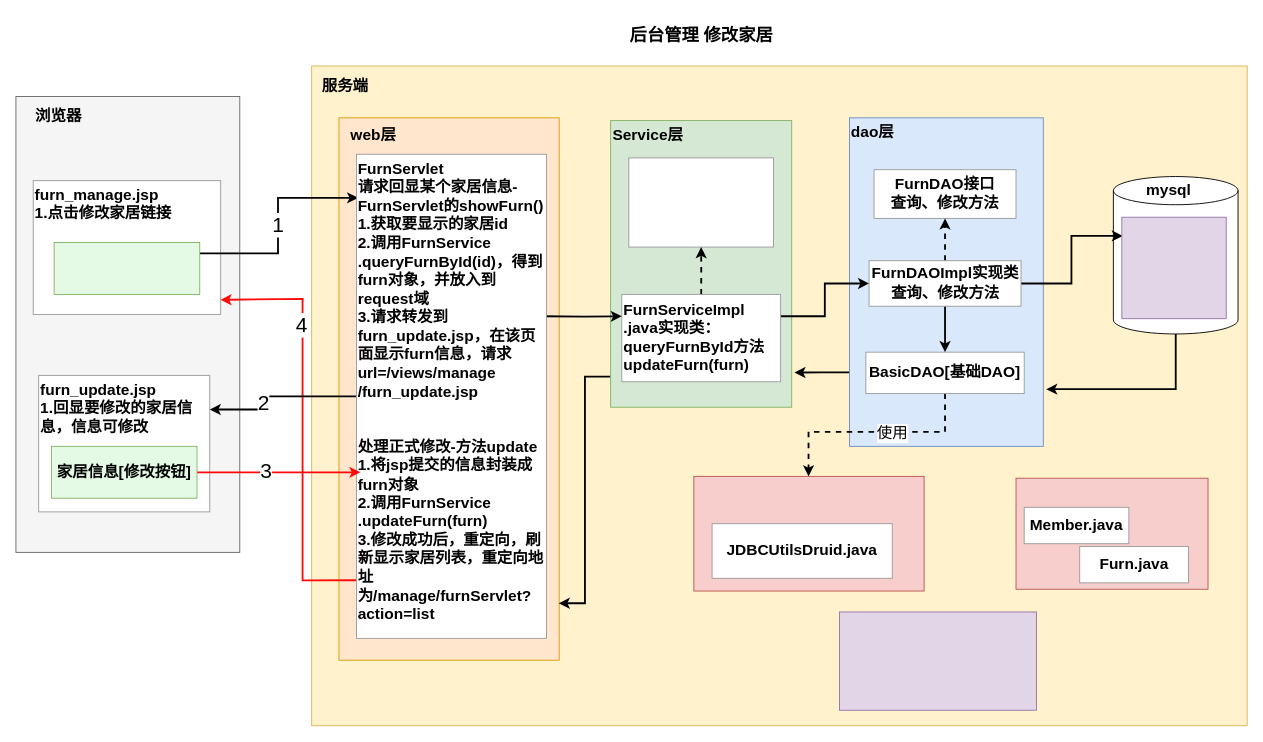
The diagram is 1263 pixels wide and 742 high, and some of its shapes have lost their labels. The box of each missing label's shape, as (x1, y1, x2, y2) in pixels:
entity包-提供Javabean: (1015, 477, 1208, 589)
FurnService.java [接口]声明 queryFurnById方法 updateFurn(furn): (628, 157, 774, 247)
furn表[家居表] 字段 id name marker...: (1121, 216, 1226, 319)
test/junit包 作用：创建测试类来测试 1.dao层好不好用 2.service层好不好用: (839, 611, 1036, 710)
utils包-提供工具类，比如德鲁伊数据连接池: (693, 475, 924, 591)
家居信息[修改链接]: (53, 242, 200, 294)
